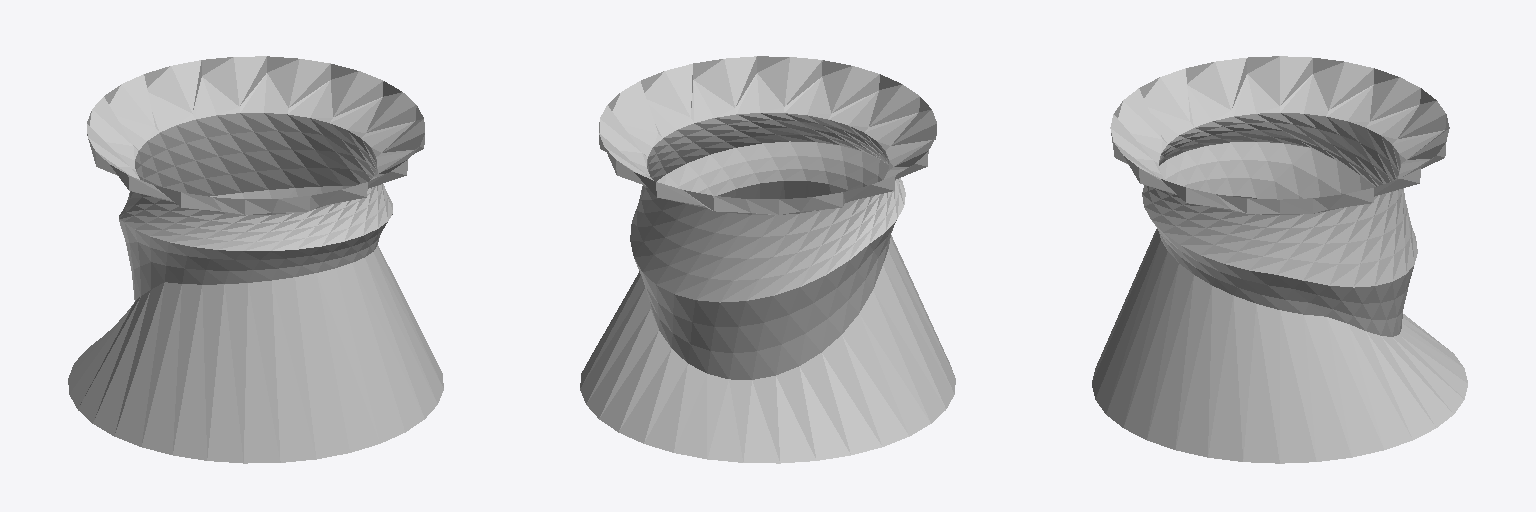
File: ModularAssets.obj
The picture shows the model from 3 angles: view 1: azimuth 30°, elevation 25°; view 2: azimuth 150°, elevation 25°; view 3: azimuth 270°, elevation 25°; orthographic projection.
Visible parts, largest first — view 1: bot, mid, top; view 2: mid, bot, top; view 3: bot, mid, top.
Boxes of the visible parts, x1=… form: bot: x1=68, y1=245, x2=443, y2=463; mid: x1=119, y1=113, x2=392, y2=300; top: x1=87, y1=56, x2=424, y2=214; mid: x1=630, y1=113, x2=905, y2=379; bot: x1=580, y1=181, x2=955, y2=463; top: x1=599, y1=56, x2=936, y2=214; bot: x1=1092, y1=196, x2=1467, y2=463; mid: x1=1142, y1=113, x2=1417, y2=336; top: x1=1110, y1=56, x2=1449, y2=214.
Size of the model in its own units: 3.1 by 2.33 by 3.1.